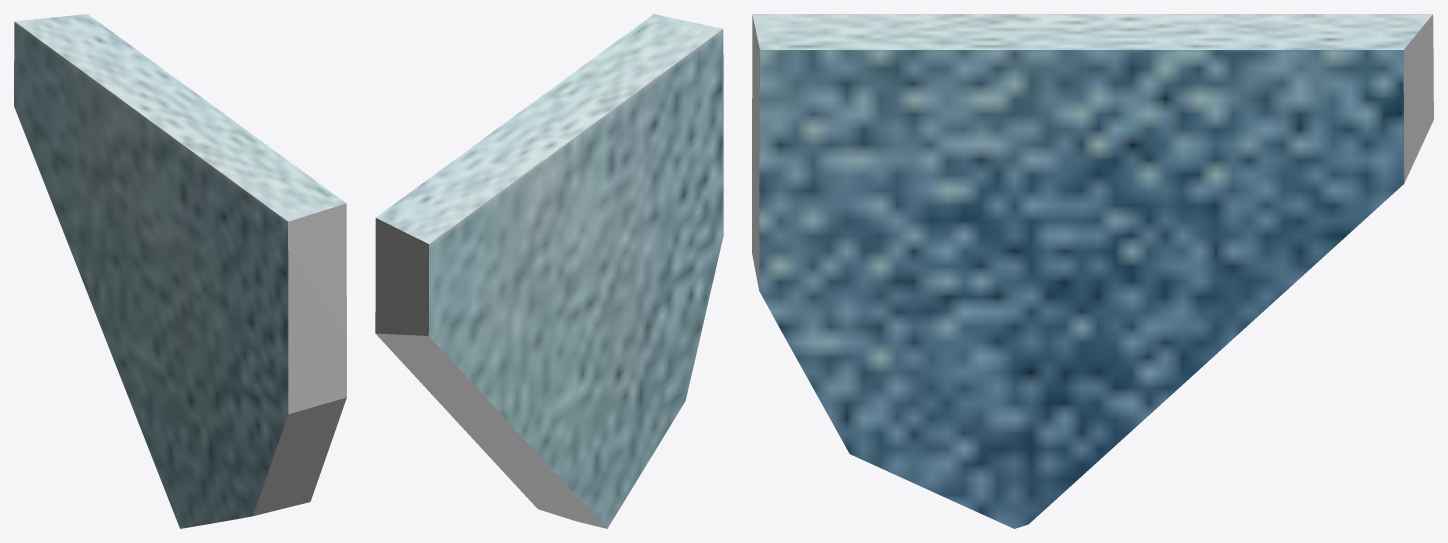
3 views of the same model, side by side, from view 1: azimuth 30°, elevation 25°; view 2: azimuth 150°, elevation 25°; view 3: azimuth 270°, elevation 25° (orthographic). The views are drawn at different scales.
Parts seen in each view (by area): view 1: Cube_cell.020_Mesh.020; view 2: Cube_cell.020_Mesh.020; view 3: Cube_cell.020_Mesh.020.
Part boxes in pixels (box(x1,y1,x2,y2)): Cube_cell.020_Mesh.020: box(14, 14, 346, 528); Cube_cell.020_Mesh.020: box(375, 14, 723, 528); Cube_cell.020_Mesh.020: box(752, 14, 1433, 528).
Size of the model in its own units: 0.0832 by 0.5 by 0.6414.
